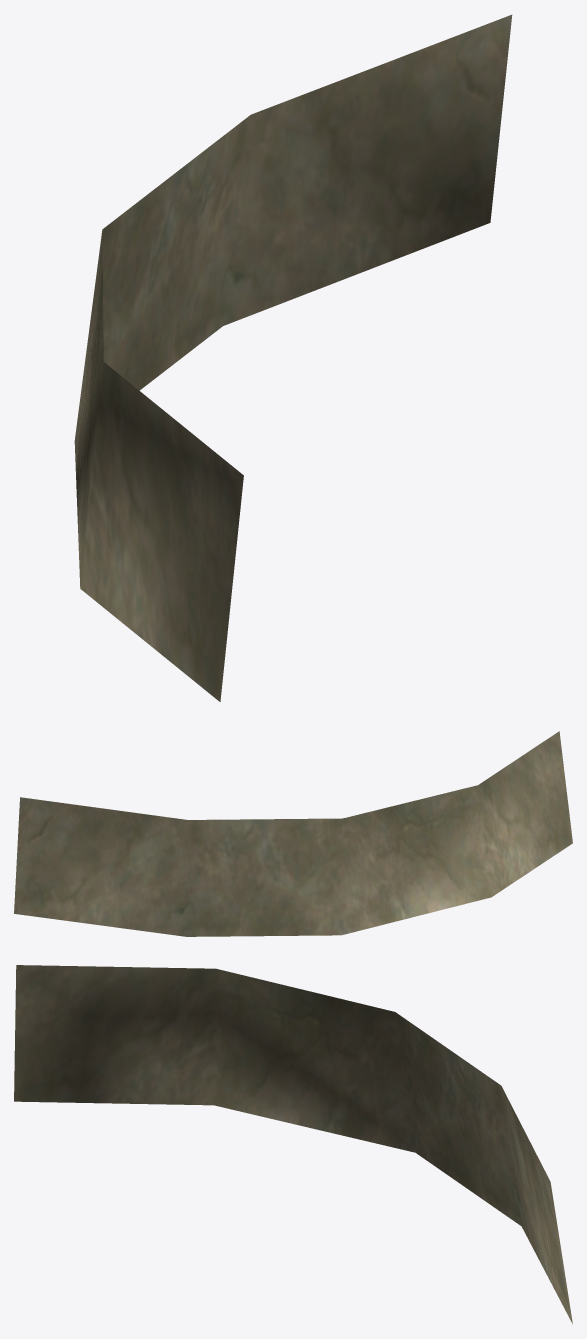
Rendered from EKH_CAVERNS_PS_CA_WALL_TRIM66238.fbx.
3 renders of one model, top to bottom at view 1: azimuth 30°, elevation 25°; view 2: azimuth 150°, elevation 25°; view 3: azimuth 270°, elevation 25°, orthographic. The views are drawn at different scales.
Parts seen in each view (by area): view 1: EKH_CAVERNS_PS_CA_WALL_TRIM66238; view 2: EKH_CAVERNS_PS_CA_WALL_TRIM66238; view 3: EKH_CAVERNS_PS_CA_WALL_TRIM66238.
Boxes of the visible parts, left/top/right/bottom form: EKH_CAVERNS_PS_CA_WALL_TRIM66238: left=74, top=14, right=512, bottom=701; EKH_CAVERNS_PS_CA_WALL_TRIM66238: left=14, top=731, right=572, bottom=936; EKH_CAVERNS_PS_CA_WALL_TRIM66238: left=14, top=965, right=572, bottom=1324.
Bounding box in the file's own units: 41627 × 12500 × 43742.
Materials: 1 (1 with a texture image).
